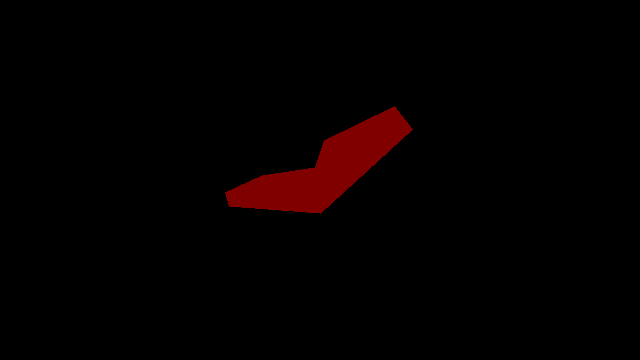fire: (225, 106, 412, 213)
